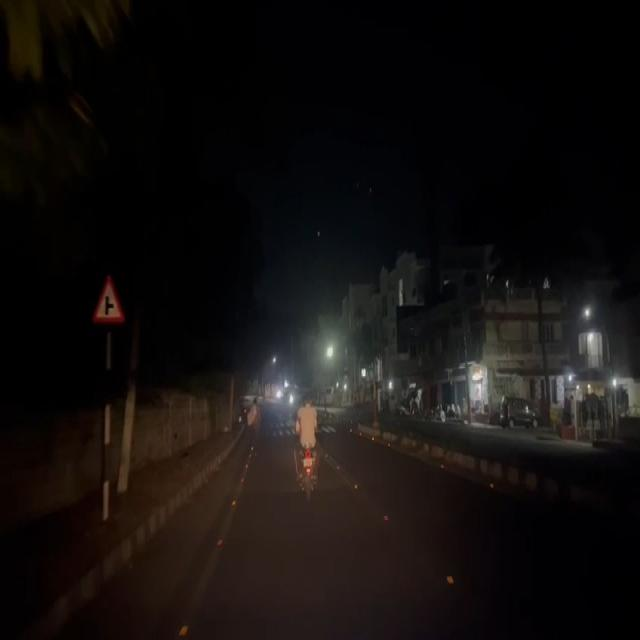bien_cam: (90, 271, 125, 325)
